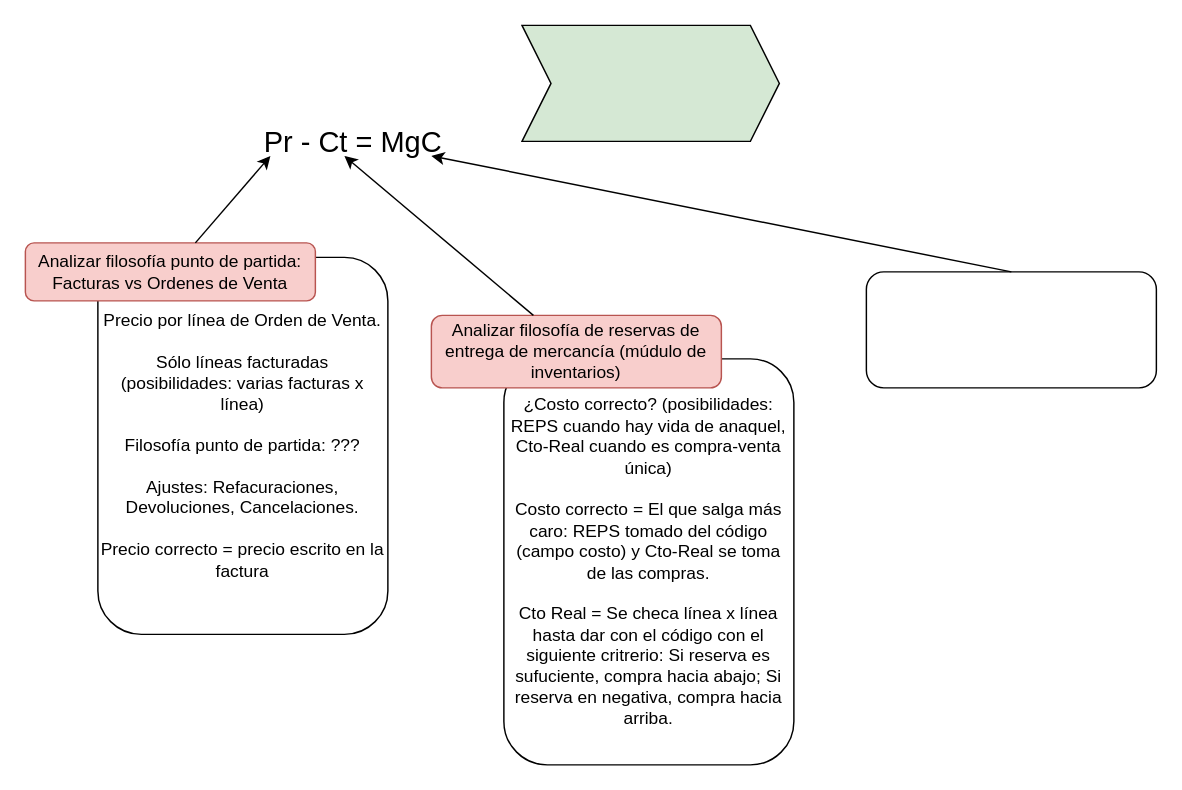
Some shapes in this 1182 by 790 pixel diagram are drawn without their labels. The box of each missing label's shape, as (x1, y1, x2, y2) in pixels:
Margen correcto = Precio correcto menos costo correcto: (865, 270, 1156, 388)
Output del algoritmo: Un dashboard por: usuario / departamento / global: (521, 24, 779, 141)
